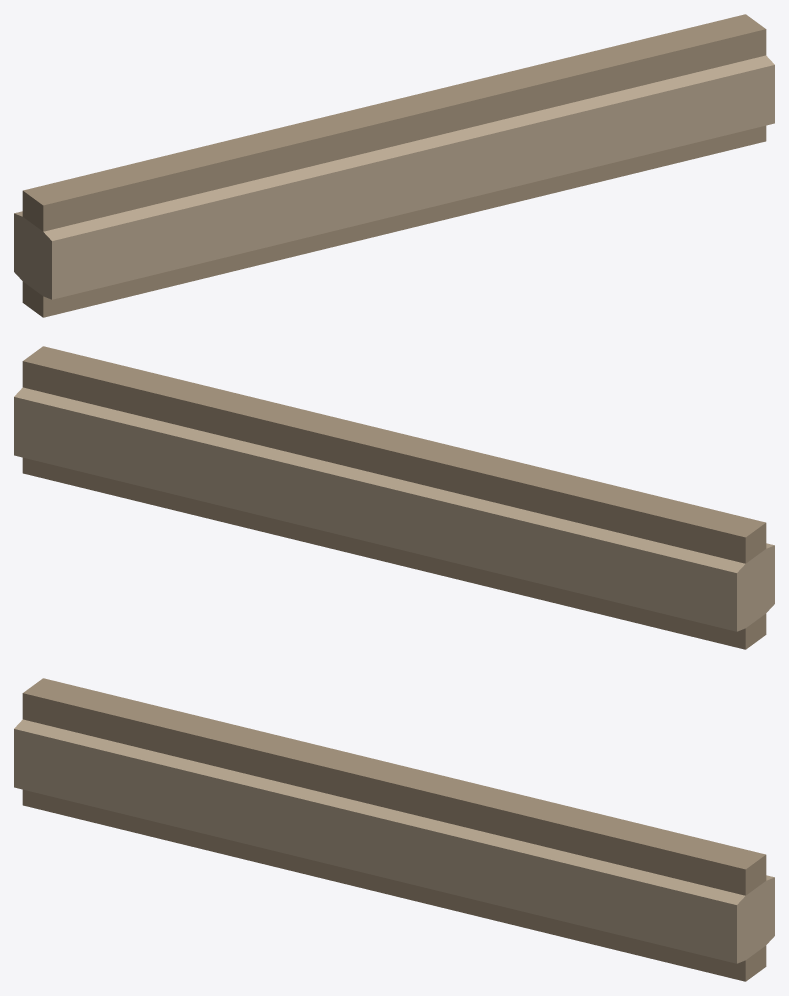
File: SM_Bld_Floor_Panel_01.glb
3 renders of one model, top to bottom at view 1: azimuth 30°, elevation 25°; view 2: azimuth 150°, elevation 25°; view 3: azimuth 330°, elevation 25°, orthographic.
Parts seen in each view (by area): view 1: SM_Bld_Floor_Panel_01; view 2: SM_Bld_Floor_Panel_01; view 3: SM_Bld_Floor_Panel_01.
Boxes of the visible parts, left/top/right/bottom form: SM_Bld_Floor_Panel_01: left=14, top=14, right=774, bottom=317; SM_Bld_Floor_Panel_01: left=14, top=346, right=774, bottom=649; SM_Bld_Floor_Panel_01: left=14, top=678, right=774, bottom=981.
Size of the model in its own units: 2.5 by 0.3711 by 0.2281.
Materials: 1 (1 with a texture image).
